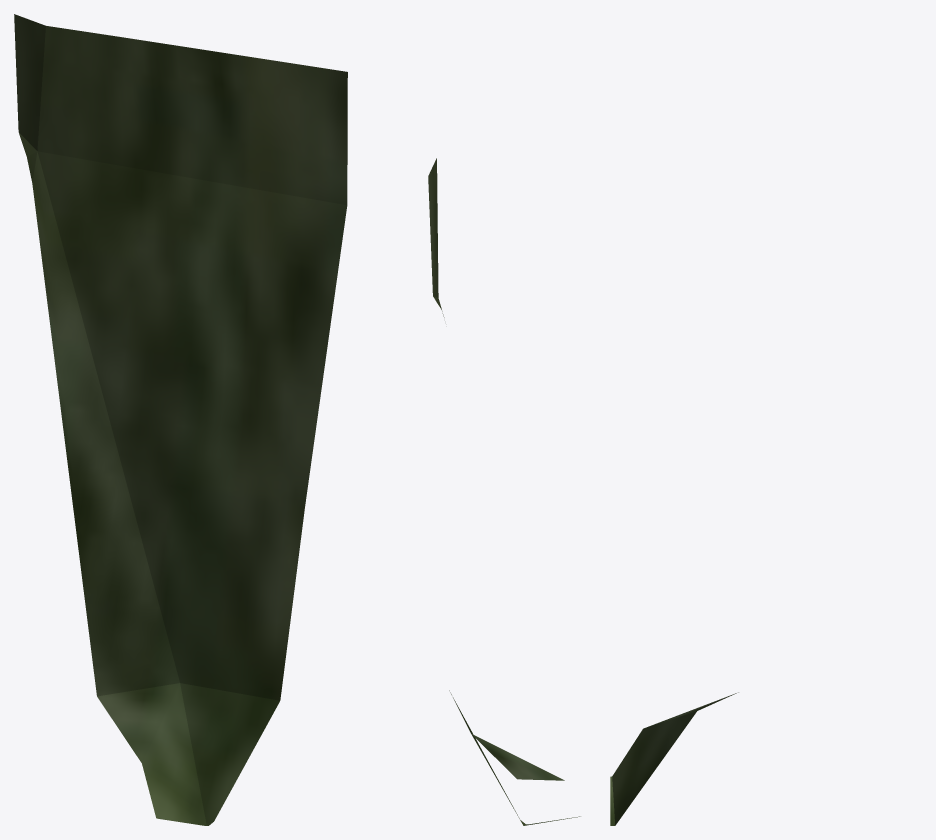
3 views of the same model, side by side, from view 1: azimuth 30°, elevation 25°; view 2: azimuth 150°, elevation 25°; view 3: azimuth 270°, elevation 25° (orthographic). The views are drawn at different scales.
Size of the model in its own units: 0.3315 by 1.19 by 0.4293.
Materials: 1 (1 with a texture image).
